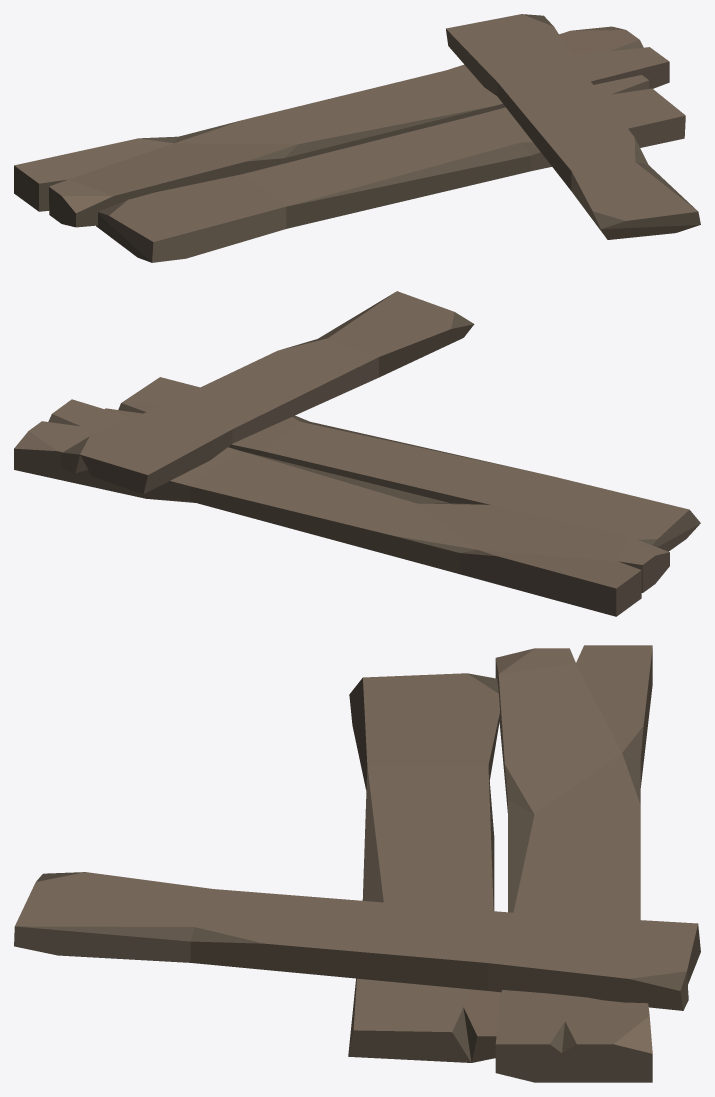
File: SM_Env_Rubble_Plank_02.fbx
3 renders of one model, top to bottom at view 1: azimuth 30°, elevation 25°; view 2: azimuth 150°, elevation 25°; view 3: azimuth 270°, elevation 25°, orthographic. The views are drawn at different scales.
Visible parts, largest first — view 1: SM_Env_Rubble_Plank_02; view 2: SM_Env_Rubble_Plank_02; view 3: SM_Env_Rubble_Plank_02.
Boxes of the visible parts, x1=… form: SM_Env_Rubble_Plank_02: x1=14, y1=14, x2=700, y2=262; SM_Env_Rubble_Plank_02: x1=14, y1=291, x2=700, y2=616; SM_Env_Rubble_Plank_02: x1=14, y1=645, x2=700, y2=1082.
Bounding box in the file's own units: 2.06 × 0.1428 × 1.5.
